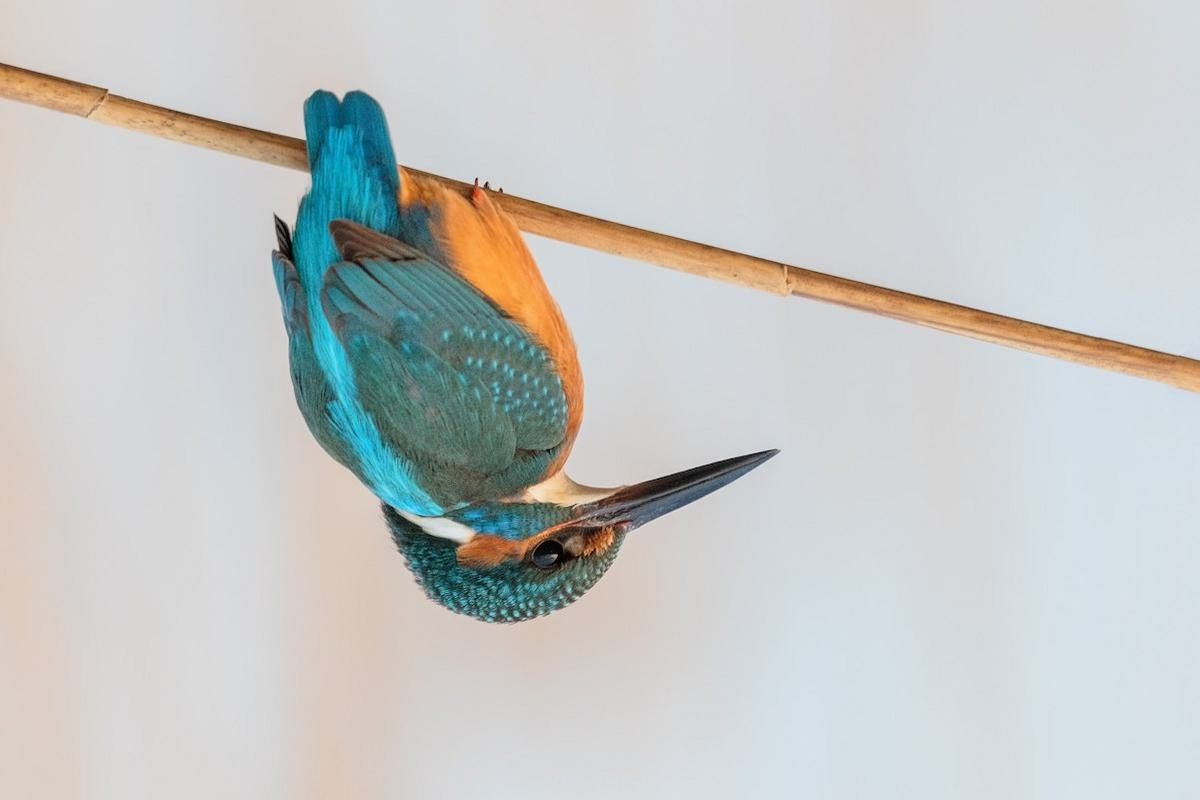kingfisher: (256, 84, 789, 609)
